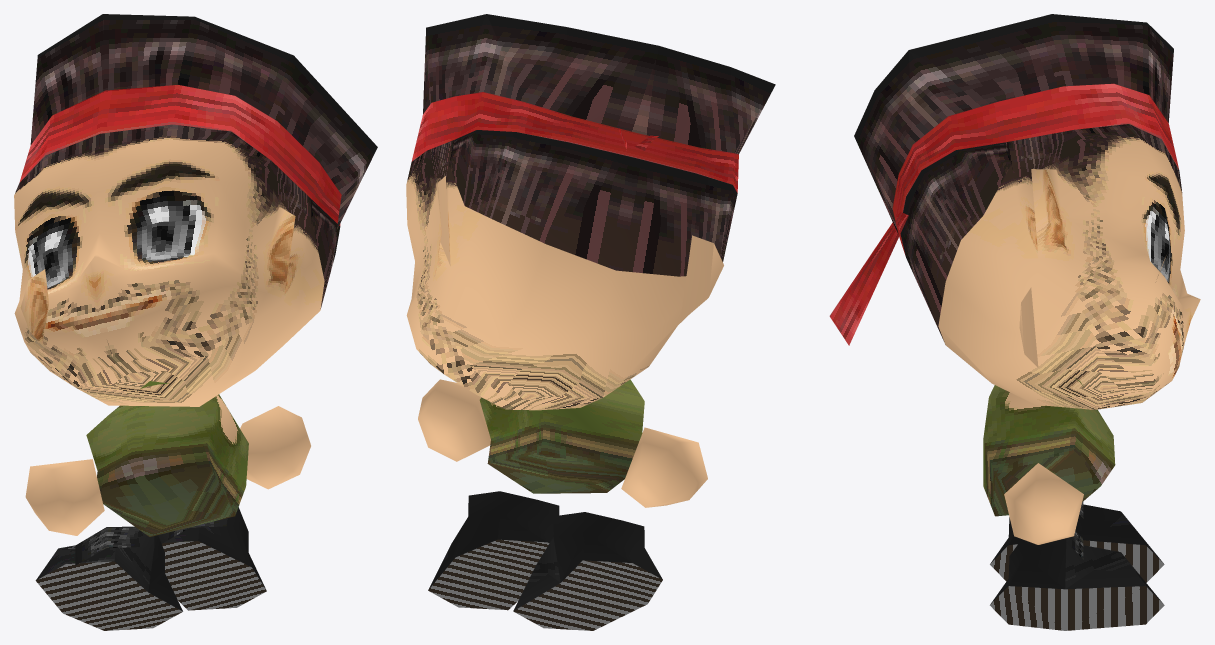
File: ps2_save-icons_mazeaction.glb
3 renders of one model, left to right at view 1: azimuth 30°, elevation 25°; view 2: azimuth 150°, elevation 25°; view 3: azimuth 270°, elevation 25°, orthographic.
Visible parts, largest first — view 1: gulb.ico; view 2: gulb.ico; view 3: gulb.ico.
Boxes of the visible parts, x1,y1,x2,y2 form: gulb.ico: (14, 14, 377, 630); gulb.ico: (406, 14, 775, 630); gulb.ico: (829, 14, 1200, 630).
Bounding box in the file's own units: 1.67 × 2.89 × 1.94.
1 material, 1 textured.
